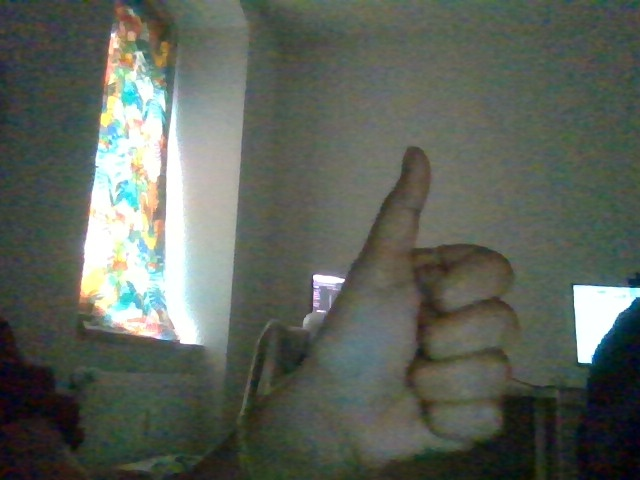thumbs_up: (268, 138, 520, 454)
